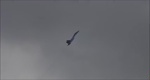maybay_muctieu: (65, 28, 79, 47)
